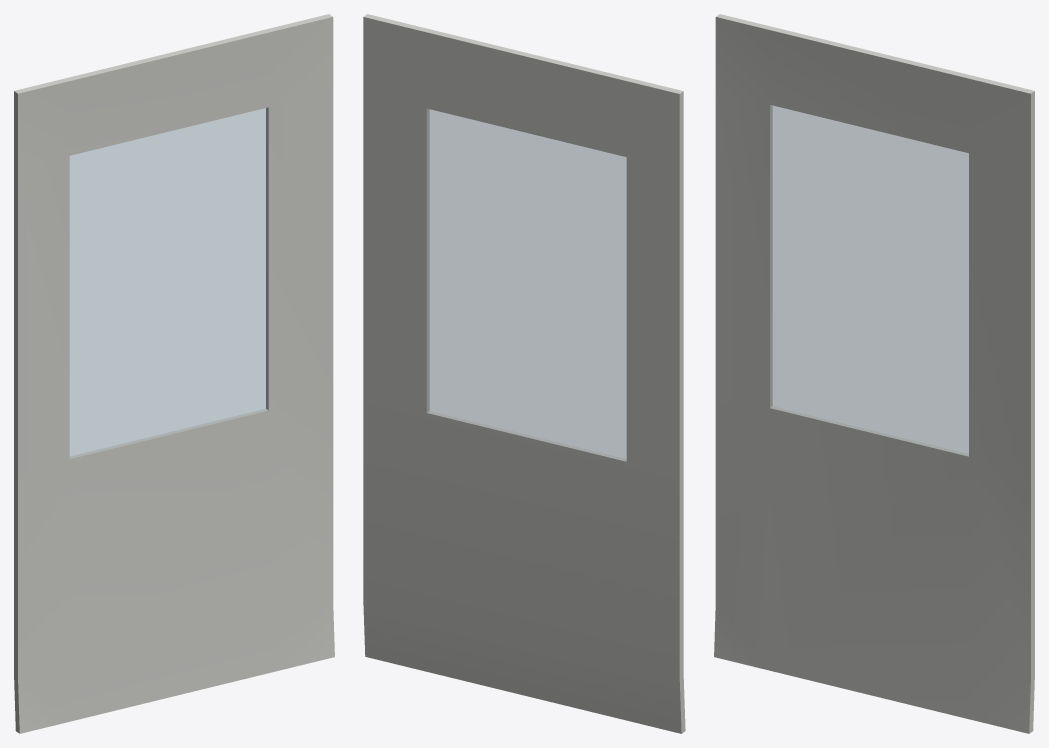
Rendered from lift-door.glb.
3 views of the same model, side by side, from view 1: azimuth 30°, elevation 25°; view 2: azimuth 150°, elevation 25°; view 3: azimuth 330°, elevation 25° (orthographic).
Parts seen in each view (by area): view 1: Dooor_Cube.002 / Door, Dooor_Cube.002 / Glass; view 2: Dooor_Cube.002 / Door, Dooor_Cube.002 / Glass; view 3: Dooor_Cube.002 / Door, Dooor_Cube.002 / Glass.
Boxes of the visible parts, left/top/right/bottom form: Dooor_Cube.002 / Door: left=14, top=14, right=334, bottom=733; Dooor_Cube.002 / Glass: left=70, top=108, right=268, bottom=458; Dooor_Cube.002 / Door: left=363, top=14, right=685, bottom=733; Dooor_Cube.002 / Glass: left=427, top=109, right=626, bottom=460; Dooor_Cube.002 / Door: left=714, top=14, right=1034, bottom=733; Dooor_Cube.002 / Glass: left=770, top=105, right=968, bottom=456.
Bounding box in the file's own units: 2.68 × 5.2 × 0.085.
